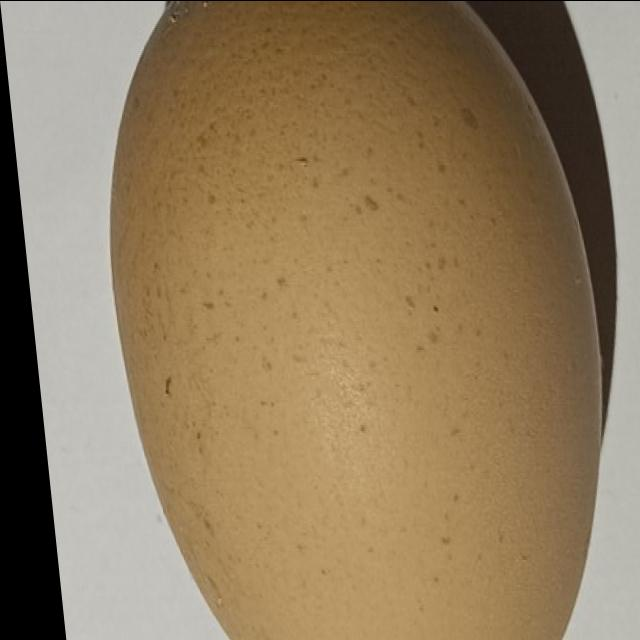unfresh: (77, 0, 621, 640)
